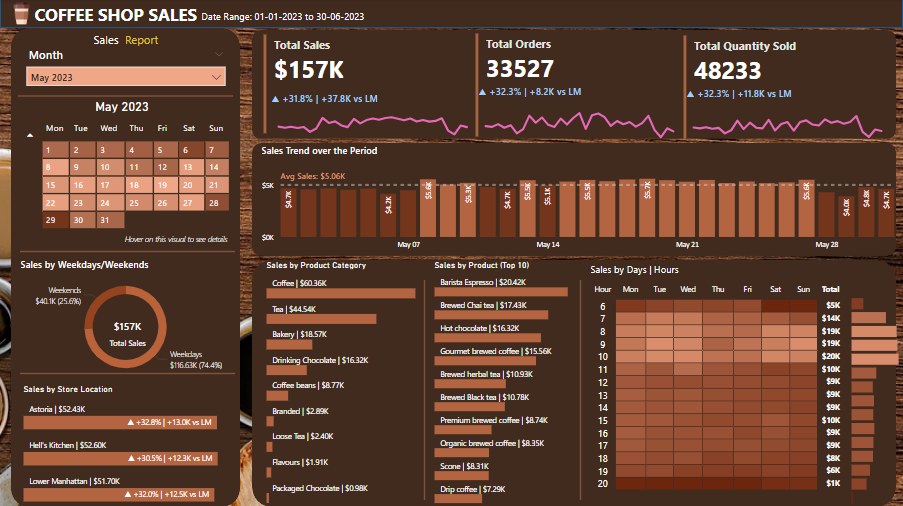

Layout of this report page (visuals, bound fields, positions):
{"tool":"powerbi","page":{"name":"Coffee Shop Sales","canvas":[1280,720],"ordinal":0},"visuals":[{"type":"shape","box":[0,0,1279.8,41.1],"z":0},{"type":"shape","box":[15.6,41.1,324.6,678.9],"z":1000},{"type":"shape","box":[357.2,43.9,912.8,154.5],"z":2000},{"type":"textbox","box":[43.9,0,275,52.4],"z":3000},{"type":"image","box":[0,0,60.9,41.1],"z":4000},{"type":"textbox","box":[280.6,11.3,300.5,29.8],"z":5000},{"type":"cardVisual","fields":{"Data":["Transactions.Total Orders"]},"box":[669,43.5,300.5,156],"z":6000,"group":"g2"},{"type":"cardVisual","fields":{"Data":["Transactions.Total Sales"]},"box":[368.5,45,305.1,150.5],"z":6000,"group":"g1"},{"type":"cardVisual","fields":{"Data":["Transactions.Total Quantity Sold"]},"box":[963.7,46.4,300.5,156],"z":6000,"group":"g3"},{"type":"slicer","fields":{"Values":["Date Table.Month Year"]},"box":[32.6,68,292,62.4],"z":6000},{"type":"group","id":"g1","title":"Group 1","box":[368.5,45,309,165.8],"z":7000},{"type":"group","id":"g2","title":"Group 1","box":[669,43.5,300.5,158.7],"z":8000},{"type":"lineChart","fields":{"Category":["Date Table.Date.Variation.Date Hierarchy.Year","Date Table.Date.Variation.Date Hierarchy.Quarter","Date Table.Date.Variation.Date Hierarchy.Month","Date Table.Date.Variation.Date Hierarchy.Day"],"Y":["Transactions.Total Orders"]},"box":[673.3,121.5,296.2,80.7],"z":8000,"group":"g2"},{"type":"lineChart","fields":{"Category":["Date Table.Date.Variation.Date Hierarchy.Year","Date Table.Date.Variation.Date Hierarchy.Quarter","Date Table.Date.Variation.Date Hierarchy.Month","Date Table.Date.Variation.Date Hierarchy.Day"],"Y":["Transactions.Total Quantity Sold"]},"box":[968,124.4,296.2,80.7],"z":8000,"group":"g3"},{"type":"lineChart","fields":{"Category":["Date Table.Date.Variation.Date Hierarchy.Year","Date Table.Date.Variation.Date Hierarchy.Quarter","Date Table.Date.Variation.Date Hierarchy.Month","Date Table.Date.Variation.Date Hierarchy.Day"],"Y":["Transactions.Total Sales"]},"box":[380.5,131,297,79.8],"z":8000,"group":"g1"},{"type":"group","id":"g3","title":"Group 1","box":[963.7,46.4,300.5,155.9],"z":9000},{"type":"pivotTable","fields":{"Rows":["Date Table.Week Number"],"Columns":["Date Table.Day Name"],"Values":["Min(Date Table.Day Number)"]},"box":[28.3,165.8,304.7,199.8],"z":10000},{"type":"card","fields":{"Values":["Min(Date Table.Month Year)"]},"box":[129,138.9,87.9,26.9],"z":11000},{"type":"card","fields":{"Values":["Transactions.Foot Note"]},"box":[168.7,326,161.6,34],"z":12000},{"type":"shape","box":[28.3,343,304.7,29.8],"z":13000},{"type":"shape","box":[25.5,127.6,304.7,19.8],"z":14000},{"type":"donutChart","title":"Sales by Weekdays/Weekends","fields":{"Category":["Date Table.Weekdays / Weekends"],"Y":["Transactions.Total Sales"]},"box":[24.1,367.1,307.6,178.6],"z":15000},{"type":"card","fields":{"Values":["Transactions.Total Sales"]},"box":[113.4,426.6,129,69.4],"z":16000},{"type":"textbox","box":[127.6,41.1,121.9,32.6],"z":17000},{"type":"clusteredBarChart","title":"Sales by Store Location","fields":{"Category":["Transactions.store_location"],"Y":["Transactions.Placeholder","Transactions.Total Sales"]},"box":[28.3,545.7,311.8,174.3],"z":18000},{"type":"shape","box":[28.3,515.9,304.7,29.8],"z":19000},{"type":"shape","box":[357.2,204.1,912.8,160.2],"z":20000},{"type":"columnChart","title":"Sales Trend over the Period","fields":{"Category":["Transactions.transaction_date"],"Y":["Transactions.Total Sales"]},"box":[365.7,205.5,912.8,158.7],"z":21000},{"type":"shape","box":[357.2,369.9,912.8,350.1],"z":22000},{"type":"clusteredBarChart","title":"Sales by Product Category","fields":{"Y":["Transactions.Placeholder","Transactions.Total Sales"],"Category":["Transactions.product_category"]},"box":[372.8,369.9,250.9,350.1],"z":23000},{"type":"shape","box":[592.4,398.3,18.4,311.8],"z":24000},{"type":"clusteredBarChart","title":"Sales by Product (Top 10)","fields":{"Y":["Transactions.Placeholder","Transactions.Total Sales"],"Category":["Transactions.product_type"]},"box":[610.9,369.9,231,350.1],"z":25000},{"type":"shape","box":[813.5,398.3,18.4,311.8],"z":26000},{"type":"pivotTable","title":"Sales by Days | Hours","fields":{"Rows":["Transactions.Hour"],"Columns":["Date Table.Day Name"],"Values":["Transactions.Total Sales"]},"box":[832,398.3,369.9,321.7],"z":27000},{"type":"clusteredBarChart","fields":{"Y":["Transactions.Total Sales"],"Category":["Transactions.Hour"]},"box":[1201.9,411,78,309],"z":28000},{"type":"textbox","box":[832,369.9,168.7,41.1],"z":29000}]}

Visuals, with their boxes in screenshot pixels (x1, y1, x2, y2), scaled from the page's 1280x720 canvas onto the 903x506 screenshot:
shape: <box>0,0,902,29</box>
shape: <box>11,29,240,505</box>
shape: <box>252,31,896,139</box>
textbox: <box>31,0,225,37</box>
image: <box>0,0,43,29</box>
textbox: <box>198,8,410,29</box>
cardVisual - Transactions.Total Orders: <box>472,31,684,140</box>
cardVisual - Transactions.Total Sales: <box>260,32,475,137</box>
cardVisual - Transactions.Total Quantity Sold: <box>680,33,892,142</box>
slicer - Date Table.Month Year: <box>23,48,229,92</box>
"Group 1" group: <box>260,32,478,148</box>
"Group 1" group: <box>472,31,684,142</box>
lineChart - Date Table.Date.Variation.Date Hierarchy.Year x Date Table.Date.Variation.Date Hierarchy.Quarter: <box>475,85,684,142</box>
lineChart - Date Table.Date.Variation.Date Hierarchy.Year x Date Table.Date.Variation.Date Hierarchy.Quarter: <box>683,87,892,144</box>
lineChart - Date Table.Date.Variation.Date Hierarchy.Year x Date Table.Date.Variation.Date Hierarchy.Quarter: <box>268,92,478,148</box>
"Group 1" group: <box>680,33,892,142</box>
pivotTable - Date Table.Week Number x Date Table.Day Name: <box>20,117,235,257</box>
card - Min(Date Table.Month Year): <box>91,98,153,117</box>
card - Transactions.Foot Note: <box>119,229,233,253</box>
shape: <box>20,241,235,262</box>
shape: <box>18,90,233,104</box>
"Sales by Weekdays/Weekends" donutChart: <box>17,258,234,384</box>
card - Transactions.Total Sales: <box>80,300,171,349</box>
textbox: <box>90,29,176,52</box>
"Sales by Store Location" clusteredBarChart: <box>20,384,240,505</box>
shape: <box>20,363,235,384</box>
shape: <box>252,143,896,256</box>
"Sales Trend over the Period" columnChart: <box>258,144,902,256</box>
shape: <box>252,260,896,505</box>
"Sales by Product Category" clusteredBarChart: <box>263,260,440,505</box>
shape: <box>418,280,431,499</box>
"Sales by Product (Top 10)" clusteredBarChart: <box>431,260,594,505</box>
shape: <box>574,280,587,499</box>
"Sales by Days | Hours" pivotTable: <box>587,280,848,505</box>
clusteredBarChart - Transactions.Total Sales x Transactions.Hour: <box>848,289,902,505</box>
textbox: <box>587,260,706,289</box>
